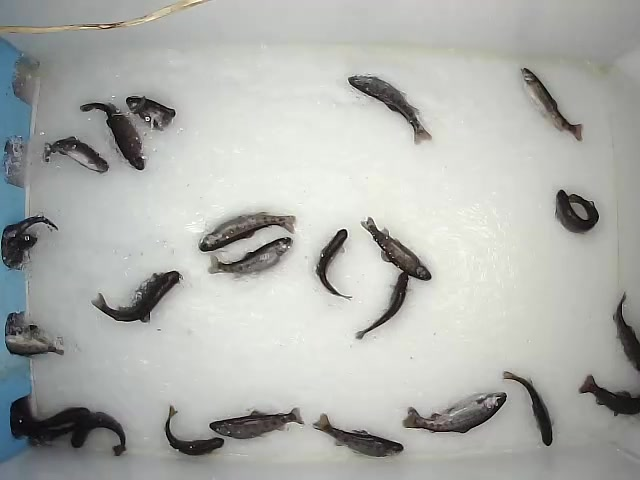fish: (346, 73, 434, 147), (90, 270, 183, 325), (359, 215, 433, 283), (519, 66, 584, 143), (401, 390, 508, 434), (80, 102, 146, 171), (311, 413, 405, 460), (354, 270, 412, 341), (197, 211, 298, 251), (502, 370, 553, 447), (206, 237, 294, 279), (209, 406, 305, 440), (164, 404, 225, 456), (315, 228, 354, 302), (577, 374, 640, 419), (71, 407, 126, 458), (42, 135, 110, 174), (611, 291, 640, 373), (554, 188, 600, 237), (125, 95, 178, 132)
